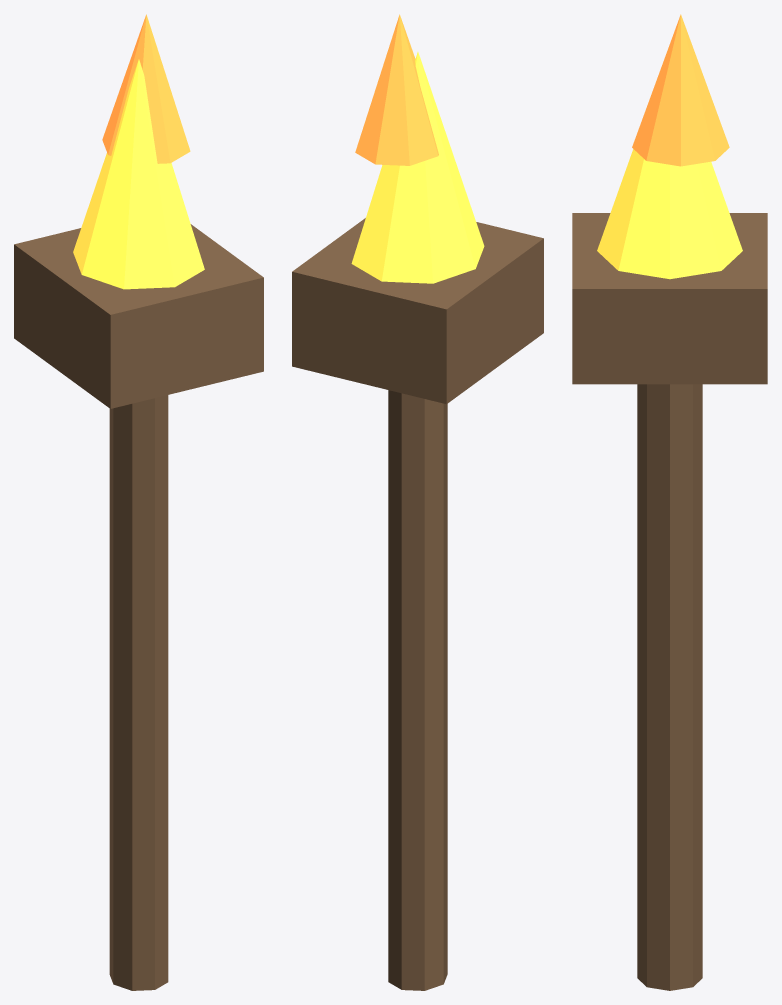
File: torch_plaza_-11_5_10_5_lev3.glb
3 renders of one model, left to right at view 1: azimuth 30°, elevation 25°; view 2: azimuth 150°, elevation 25°; view 3: azimuth 270°, elevation 25°, orthographic.
Parts seen in each view (by area): view 1: torch_plaza_-11_5_10_5_lev3; view 2: torch_plaza_-11_5_10_5_lev3; view 3: torch_plaza_-11_5_10_5_lev3.
Boxes of the visible parts, x1,y1,x2,y2 form: torch_plaza_-11_5_10_5_lev3: [14, 14, 263, 990]; torch_plaza_-11_5_10_5_lev3: [292, 14, 543, 990]; torch_plaza_-11_5_10_5_lev3: [572, 14, 767, 990].
Bounding box in the file's own units: 0.9052 × 5.4 × 0.9854.
